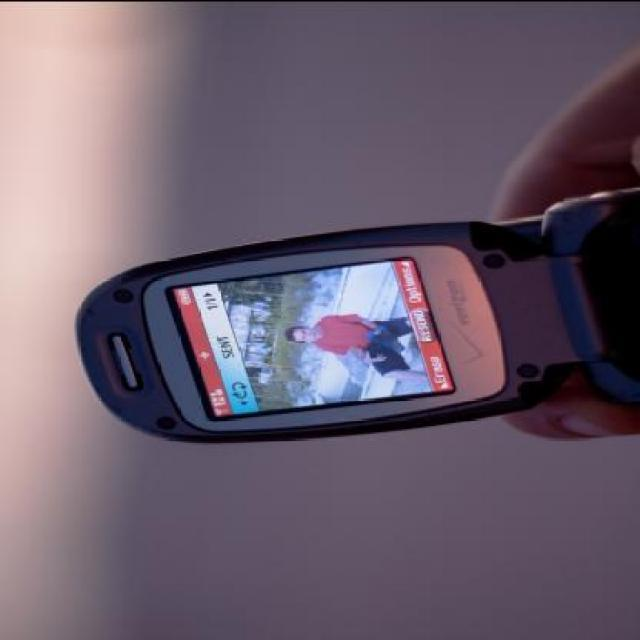phone: (75, 183, 639, 445)
